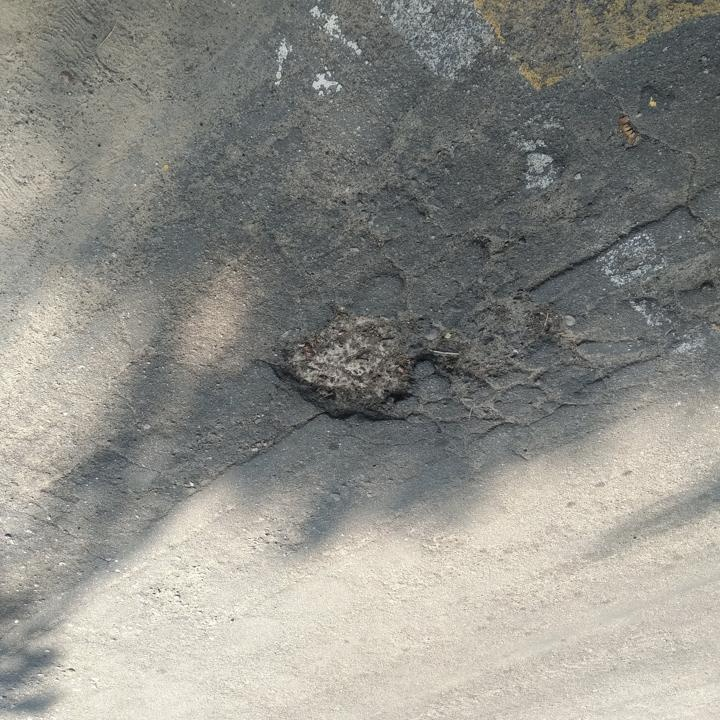pothole: (258, 310, 424, 428), (427, 298, 563, 384)
